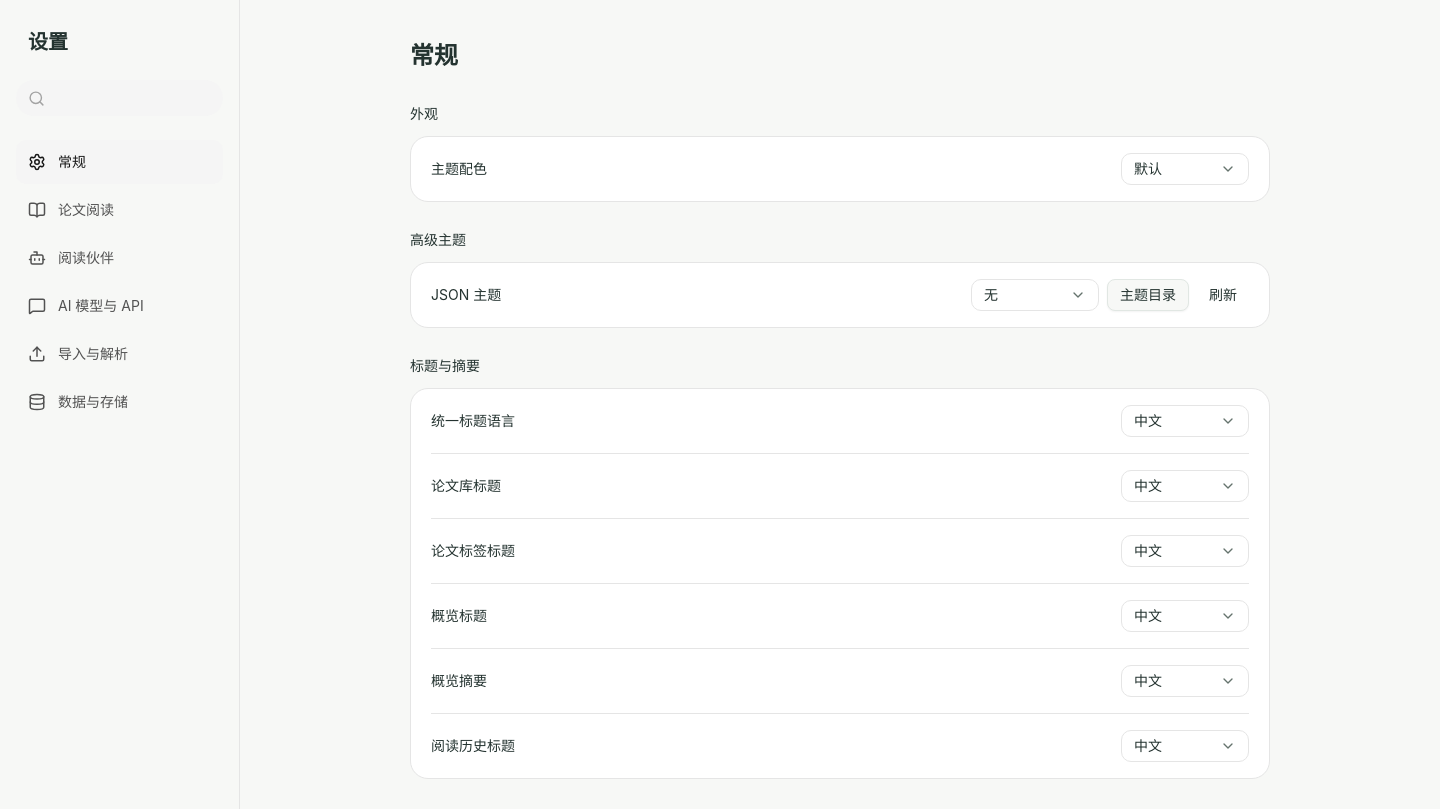
Test: offers the approved categories without task notifications or help icons
Expected: the dropdown named "统一标题语言" is shown, [1121, 405, 1249, 437]
Step 1. Click the button "阅读伙伴" → (120, 258), box [16, 236, 223, 280]
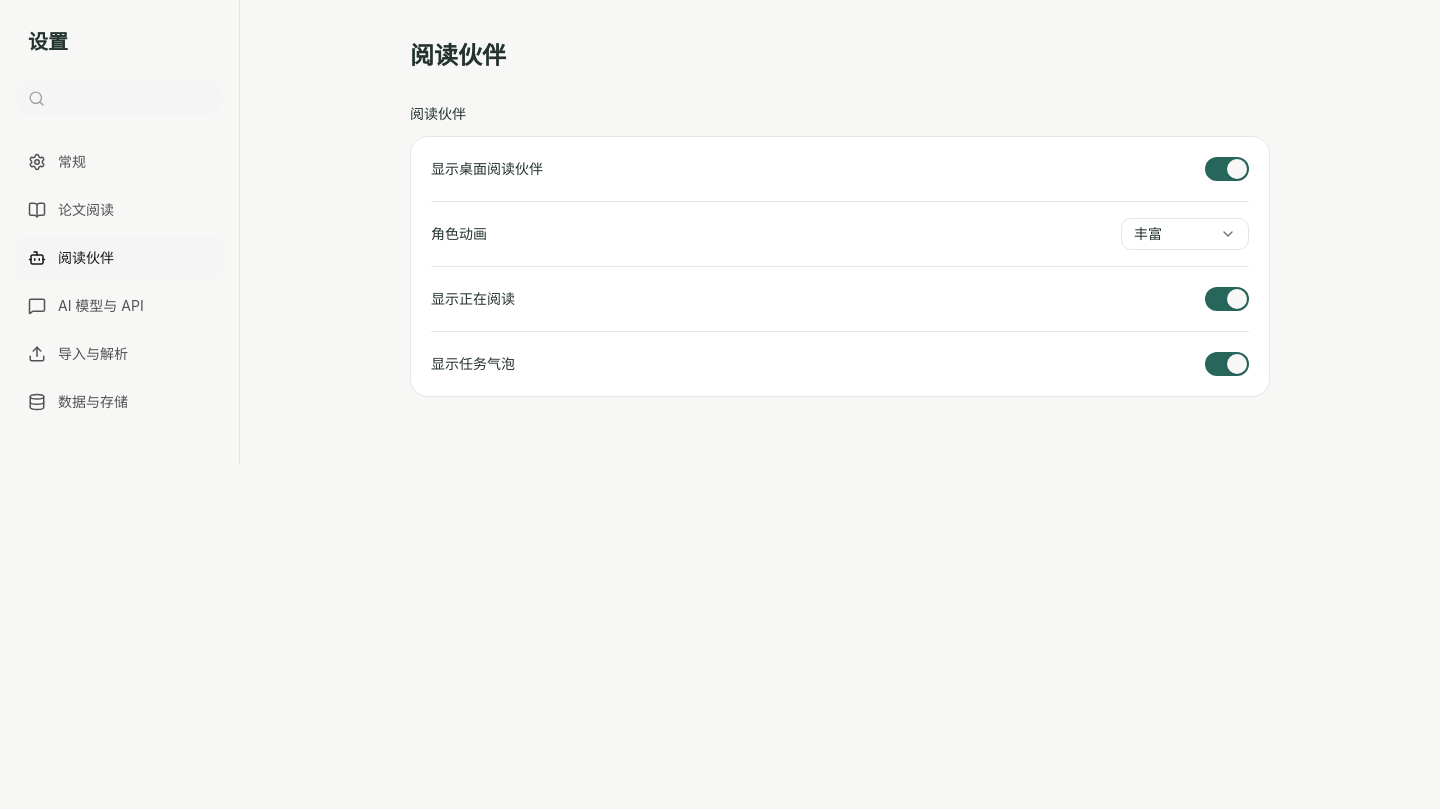
Now the switch named "显示正在阅读" is shown, box [1205, 287, 1249, 311]
